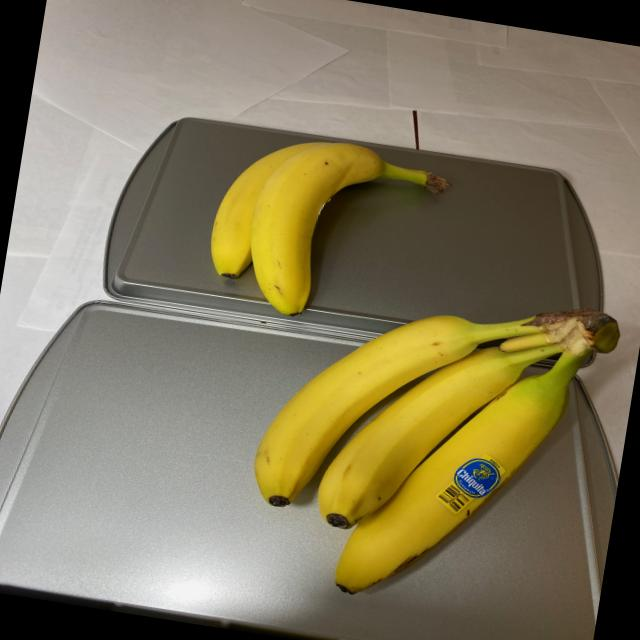banana: (230, 259, 628, 636), (191, 122, 461, 337)
